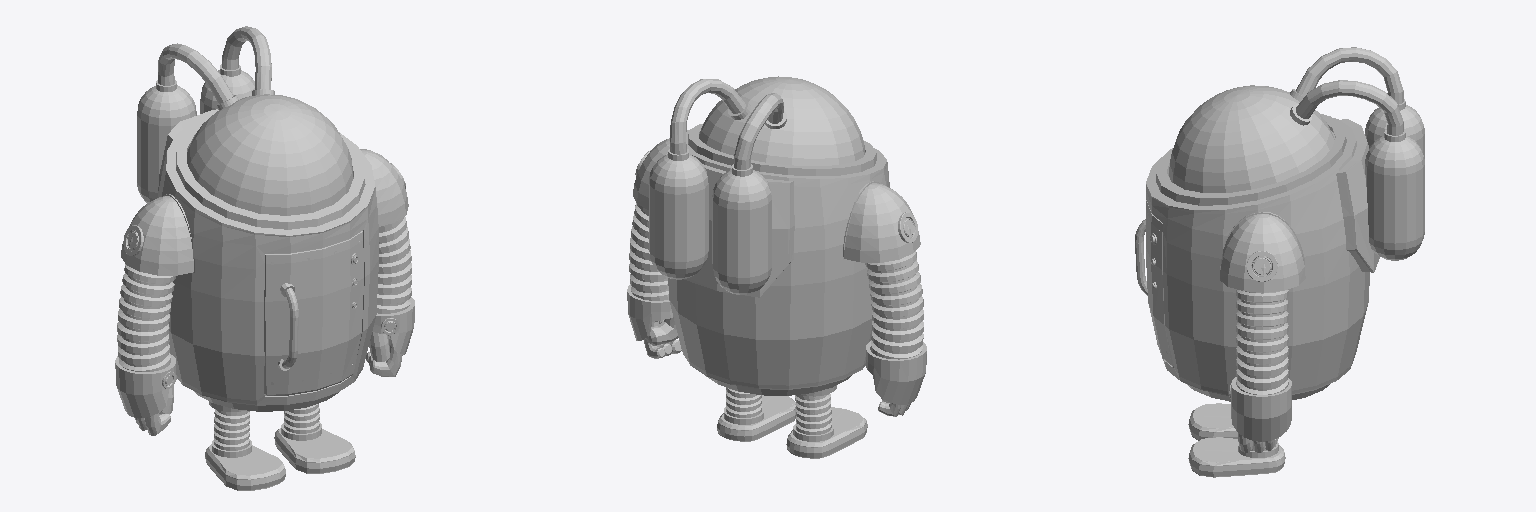
The model's file is ROBOT_LOW_OBJ.obj.
The picture shows the model from 3 angles: view 1: azimuth 30°, elevation 25°; view 2: azimuth 150°, elevation 25°; view 3: azimuth 270°, elevation 25°; orthographic projection.
Parts seen in each view (by area): view 1: default; view 2: default; view 3: default.
Part boxes in pixels (bbox=[...]): default: bbox=[115, 26, 414, 490]; default: bbox=[627, 76, 926, 458]; default: bbox=[1135, 47, 1424, 477].
Size of the model in its own units: 58.18 by 72.75 by 50.09.